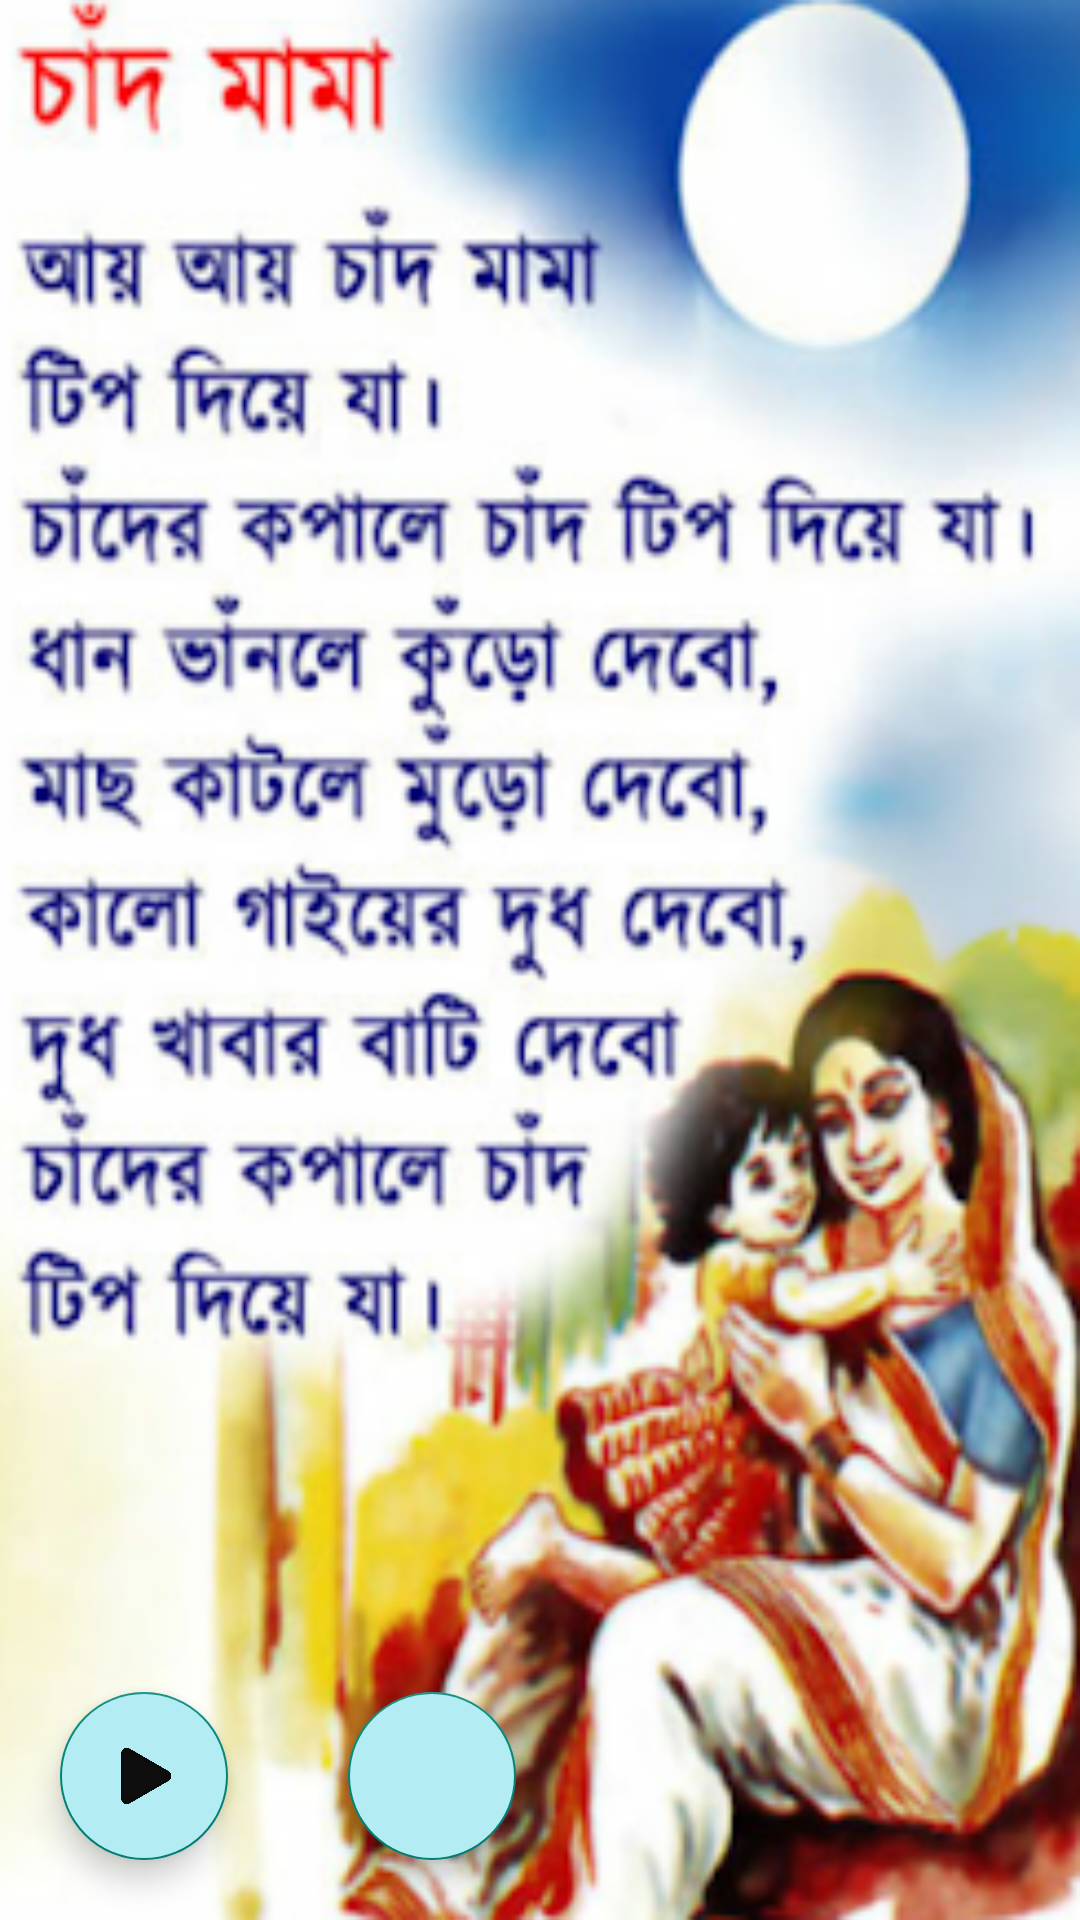

Locate icon controls on the screen. Image size 1080x1920, boxes as (x1, y1, x2, y2).
play: (60, 1692, 228, 1860)
